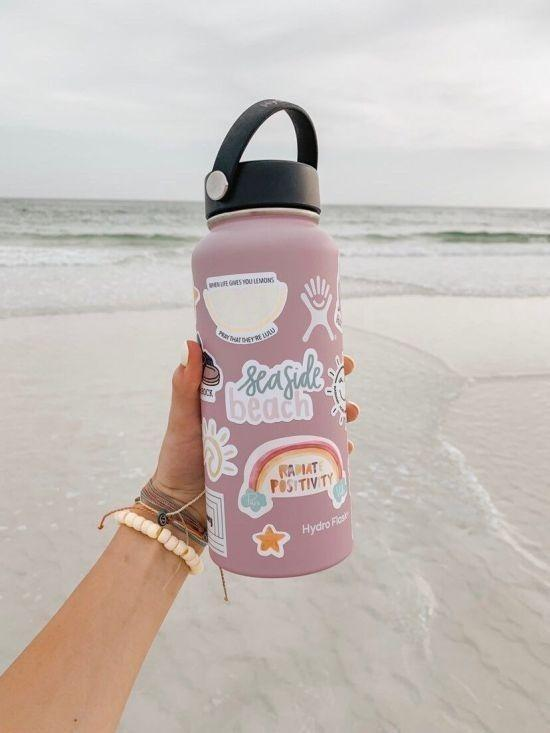gym bottle: (191, 98, 356, 578)
